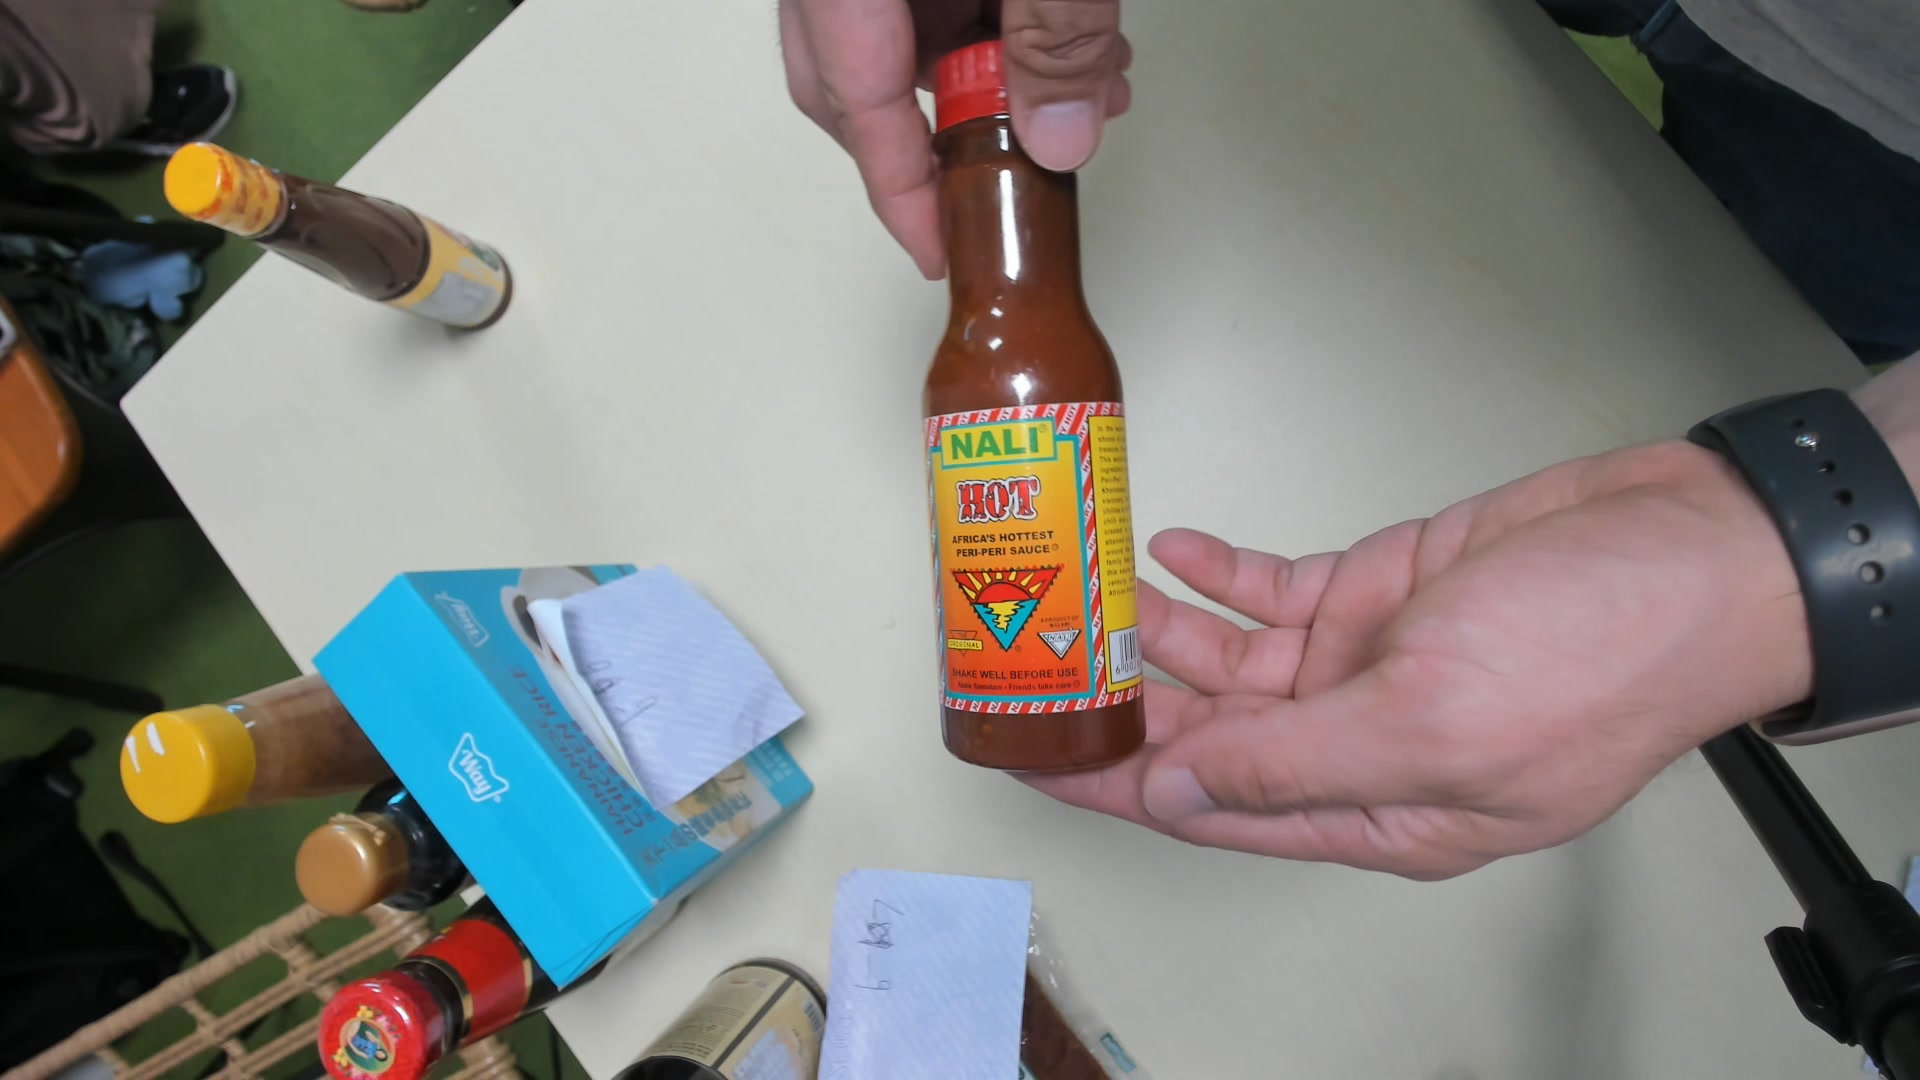KetchupChillSauce_100-199g_Halal_NonHealthy: (923, 40, 1149, 771)
